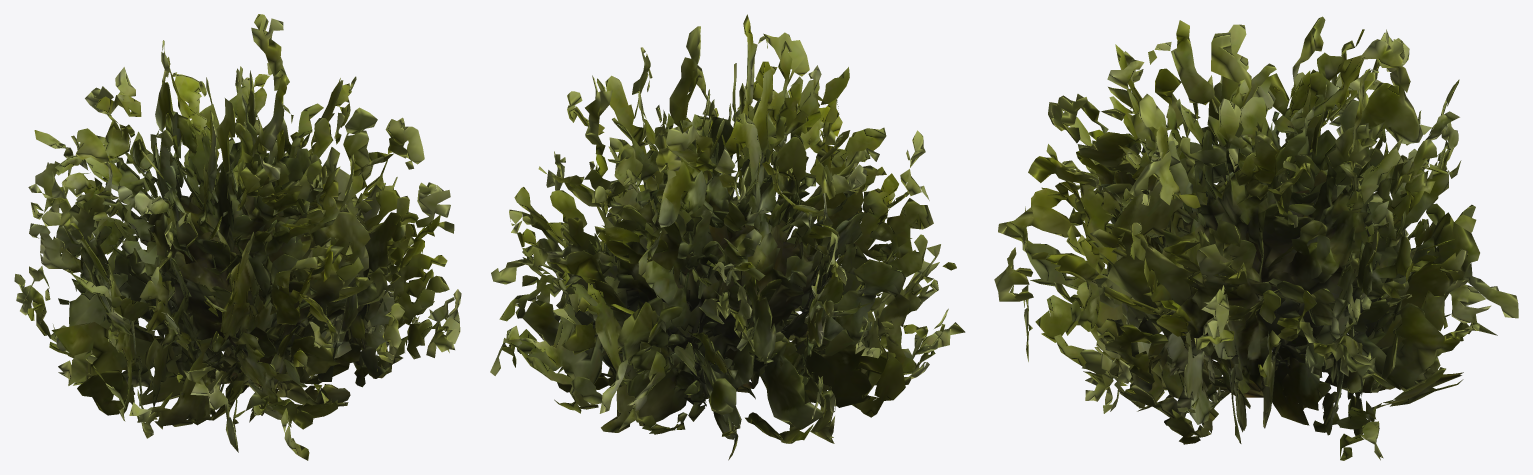
Rendered from nature-bush-round.glb.
The picture shows the model from 3 angles, left to right: view 1: azimuth 30°, elevation 25°; view 2: azimuth 150°, elevation 25°; view 3: azimuth 270°, elevation 25°; orthographic projection. The views are drawn at different scales.
Parts seen in each view (by area): view 1: tripo_node_eb7b251a-fe60-4d01-a45b-fe96018e6c91; view 2: tripo_node_eb7b251a-fe60-4d01-a45b-fe96018e6c91; view 3: tripo_node_eb7b251a-fe60-4d01-a45b-fe96018e6c91.
Boxes of the visible parts, left/top/right/bottom form: tripo_node_eb7b251a-fe60-4d01-a45b-fe96018e6c91: left=14, top=14, right=461, bottom=460; tripo_node_eb7b251a-fe60-4d01-a45b-fe96018e6c91: left=490, top=14, right=965, bottom=460; tripo_node_eb7b251a-fe60-4d01-a45b-fe96018e6c91: left=994, top=16, right=1518, bottom=460.
Size of the model in its own units: 1.87 by 1.5 by 1.91.
Materials: 1 (1 with a texture image).
